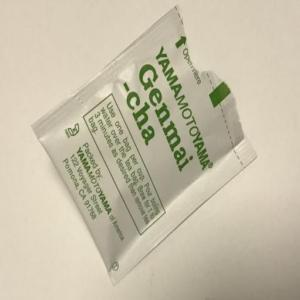Trash: (31, 5, 259, 288)
